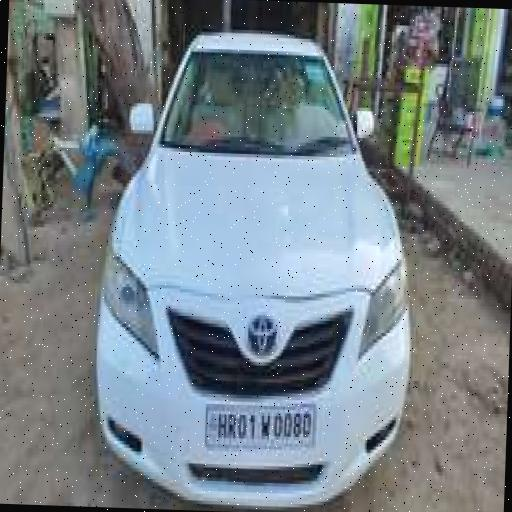license_plate`: (202, 396, 315, 450)
